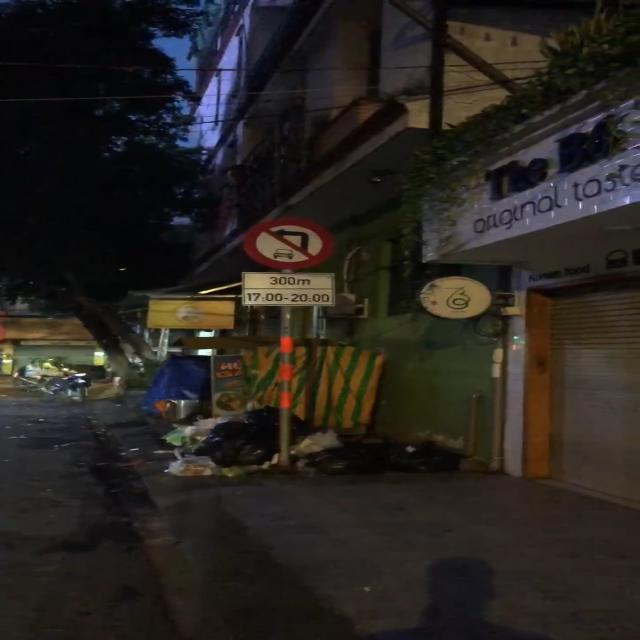Bien bao cam xe o to re trai: (235, 219, 341, 274)
